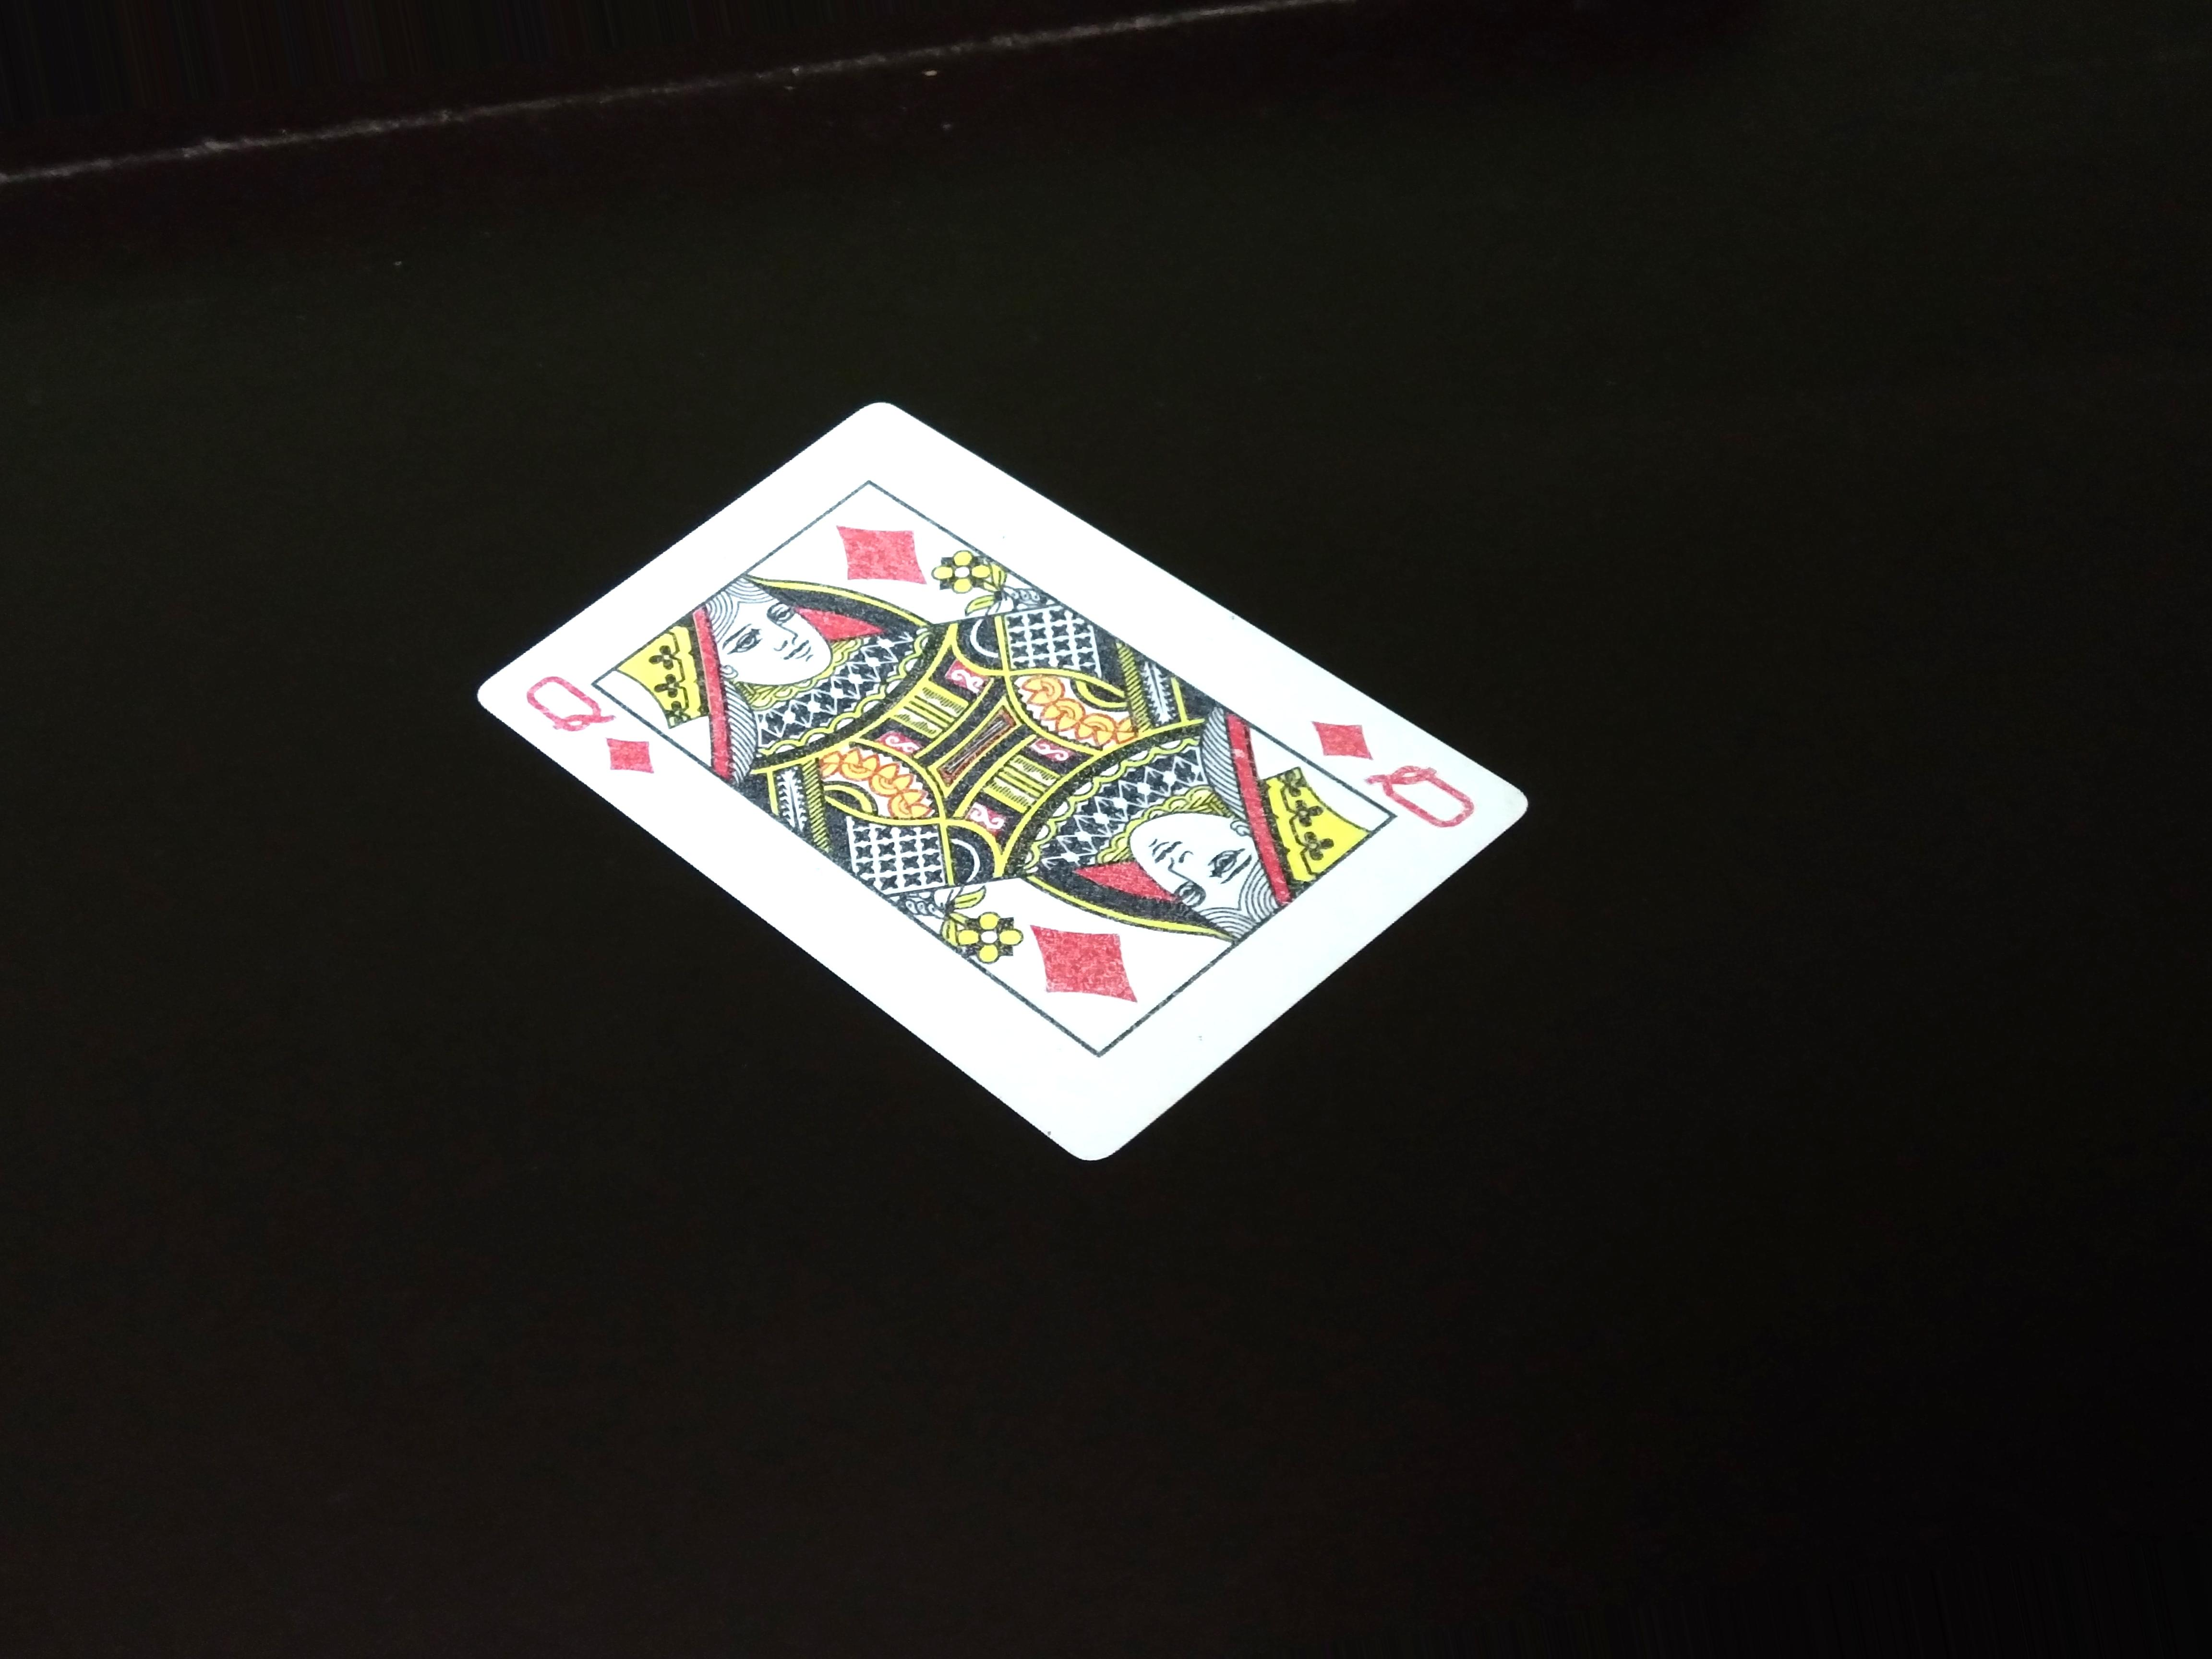QD: (509, 659, 674, 788)
